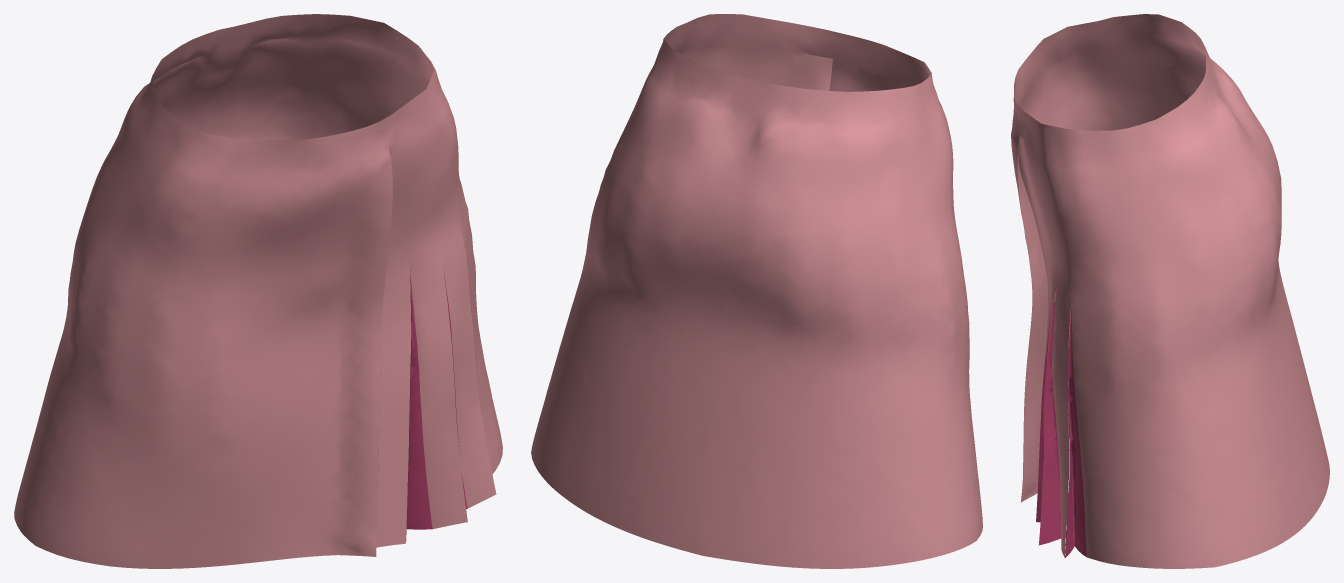
3 renders of one model, left to right at view 1: azimuth 30°, elevation 25°; view 2: azimuth 150°, elevation 25°; view 3: azimuth 270°, elevation 25°, orthographic. The views are drawn at different scales.
Parts seen in each view (by area): view 1: BodyBottom; view 2: BodyBottom; view 3: BodyBottom.
Boxes of the visible parts, x1,y1,x2,y2 form: BodyBottom: [14, 14, 502, 568]; BodyBottom: [531, 14, 982, 568]; BodyBottom: [1011, 14, 1329, 568].
Size of the model in its own units: 0.3543 by 0.3477 by 0.2345.
Materials: 8 (8 with a texture image).
